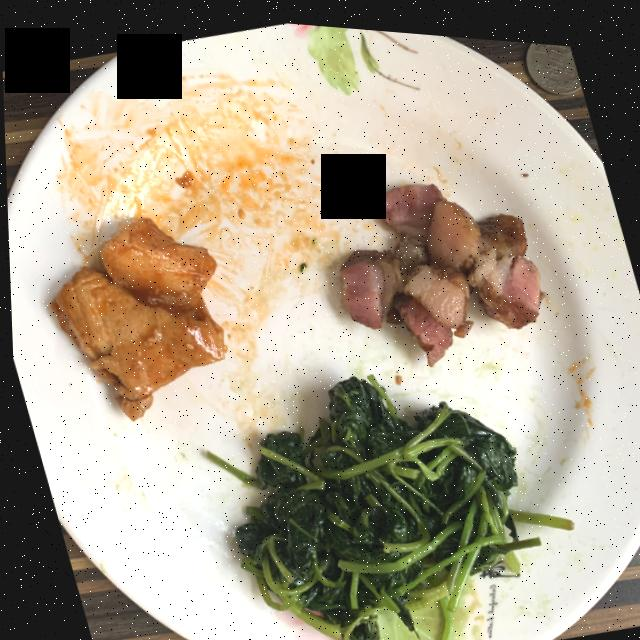coin: (525, 34, 581, 83)
creamy tofu: (47, 214, 223, 417)
grilled pork: (338, 175, 540, 357)
sweet potato leaves: (203, 368, 569, 640)
